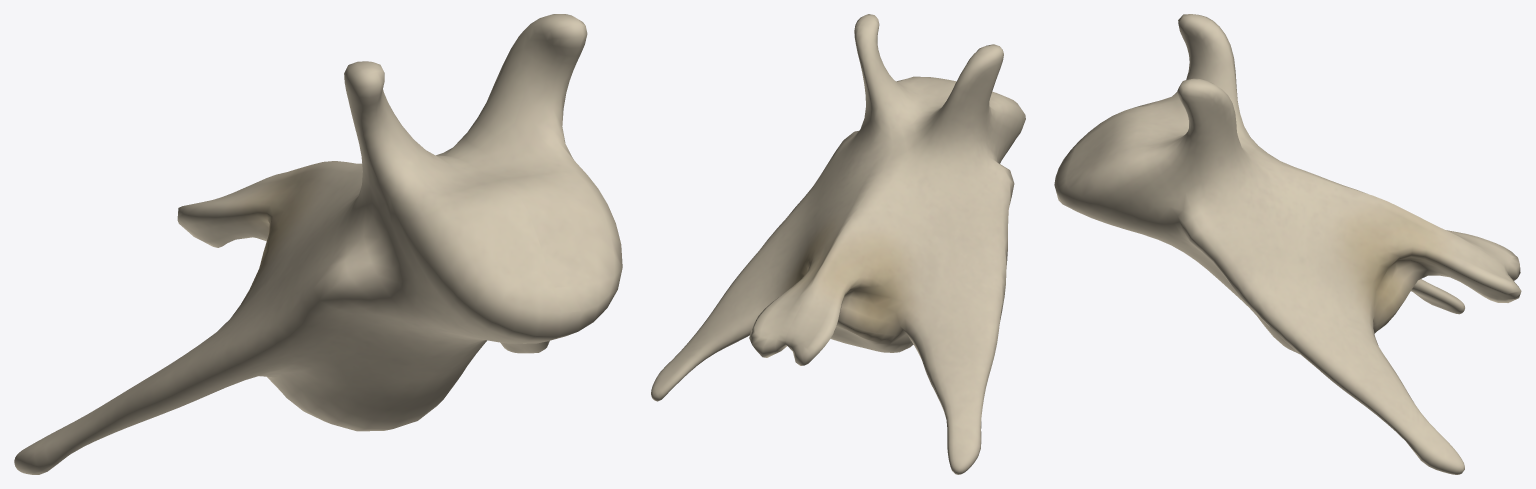
Rendered from vertebrae caudales 03.fbx.
The picture shows the model from 3 angles, left to right: view 1: azimuth 30°, elevation 25°; view 2: azimuth 150°, elevation 25°; view 3: azimuth 270°, elevation 25°; orthographic projection. The views are drawn at different scales.
Parts seen in each view (by area): view 1: vertebrae caudales 03; view 2: vertebrae caudales 03; view 3: vertebrae caudales 03.
Part boxes in pixels (bbox=[...]): vertebrae caudales 03: bbox=[14, 14, 622, 474]; vertebrae caudales 03: bbox=[651, 14, 1025, 474]; vertebrae caudales 03: bbox=[1054, 14, 1521, 474].
Bounding box in the file's own units: 5.72 × 5.42 × 6.63.
